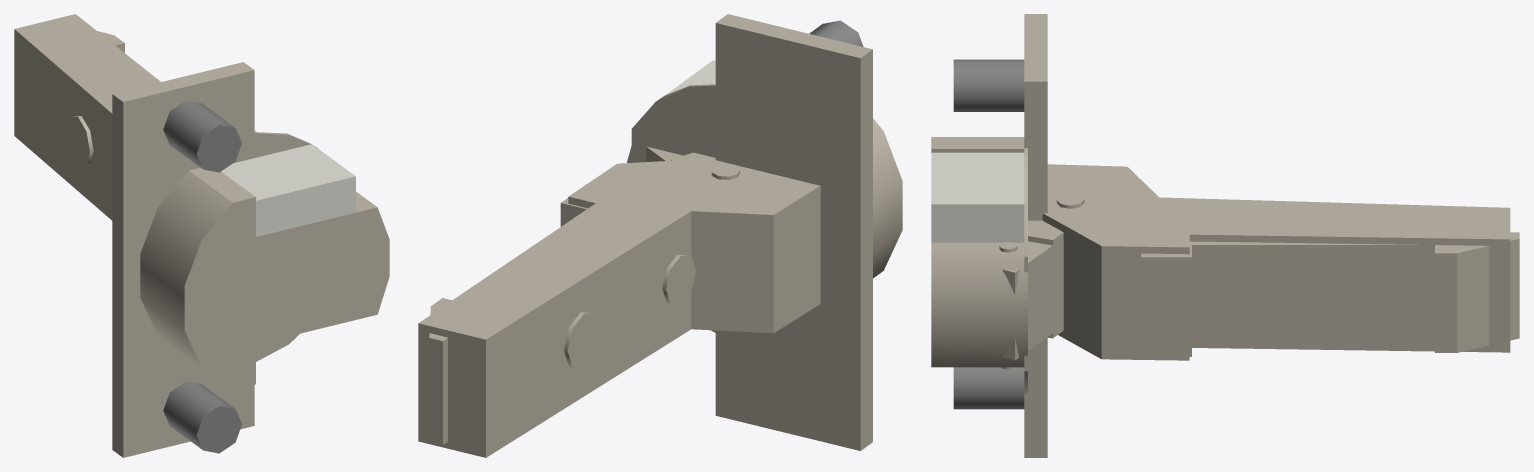
The picture shows the model from 3 angles, left to right: view 1: azimuth 30°, elevation 25°; view 2: azimuth 150°, elevation 25°; view 3: azimuth 270°, elevation 25°; orthographic projection. The views are drawn at different scales.
Visible parts, largest first — view 1: bau2460033743-1, bau2460631794-1; view 2: bau2460631794-1, bau2460033743-1, bau0019426112-1, bau2460027380-1; view 3: bau2460631794-1, bau0019426112-1, bau2460033743-1, bau2460027380-1.
Boxes of the visible parts, left/top/right/bottom form: bau2460033743-1: left=112, top=62, right=389, bottom=457; bau2460631794-1: left=14, top=14, right=255, bottom=220; bau2460631794-1: left=418, top=158, right=820, bottom=457; bau2460033743-1: left=627, top=14, right=902, bottom=450; bau0019426112-1: left=429, top=184, right=587, bottom=445; bau2460027380-1: left=646, top=146, right=715, bottom=161; bau2460631794-1: left=1042, top=164, right=1510, bottom=360; bau0019426112-1: left=1141, top=232, right=1519, bottom=356; bau2460033743-1: left=931, top=14, right=1047, bottom=457; bau2460027380-1: left=1002, top=220, right=1063, bottom=360.
Bounding box in the file's own units: 37.24 × 57 × 80.8.
